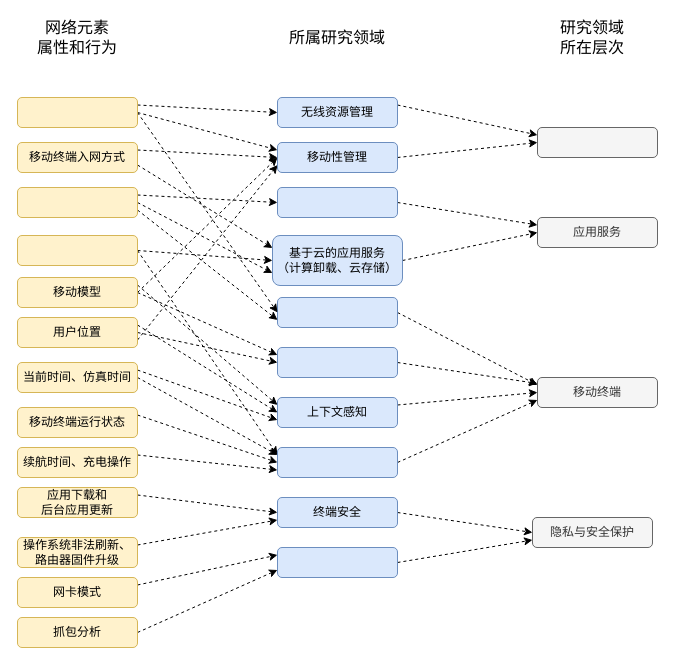
The diagram is 675 pixels wide and 665 high, and some of its shapes have lost their labels. Here are the shapes that lost their labels. From the top down, the box of each, then its label:
(16, 96, 138, 128): 网络传输性能
(536, 126, 658, 158): 接入网络
(16, 186, 138, 218): 移动终端性能
(276, 186, 398, 218): 应用扩展
(16, 234, 138, 266): 终端监控指标
(276, 296, 398, 328): 用户体验质量（QoE）
(276, 346, 398, 378): 定位服务
(276, 446, 398, 478): 节能
(276, 546, 398, 578): 异常流量控制
